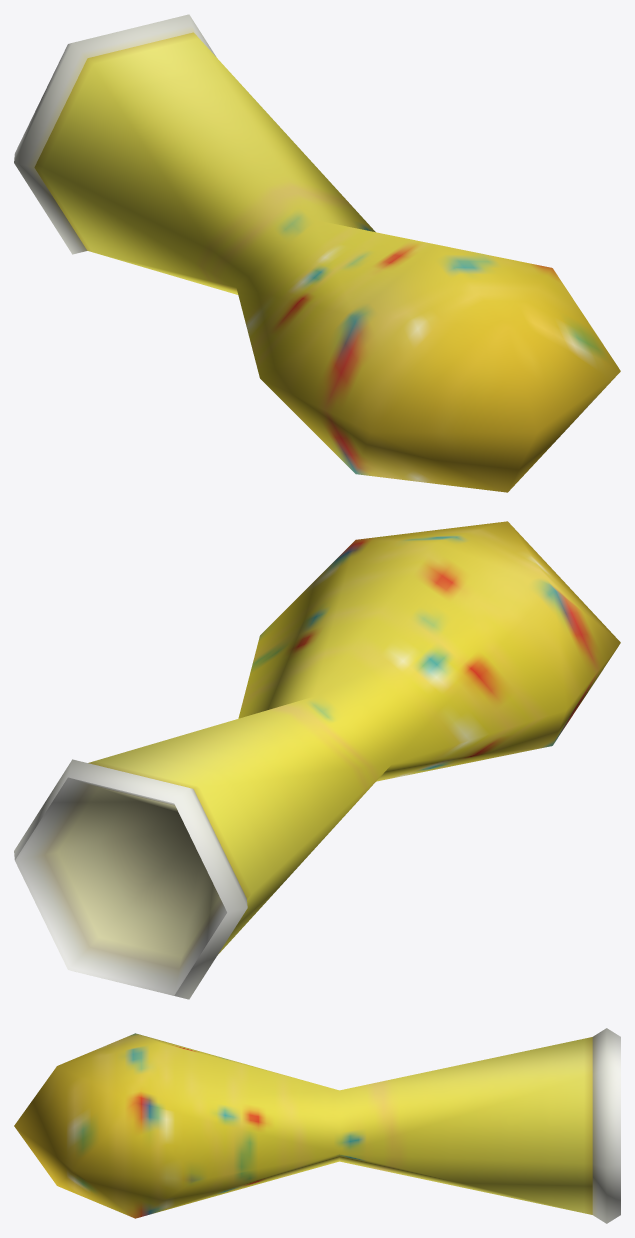
Rendered from jsf_Balloon_04.fbx.
3 renders of one model, top to bottom at view 1: azimuth 30°, elevation 25°; view 2: azimuth 150°, elevation 25°; view 3: azimuth 270°, elevation 25°, orthographic. The views are drawn at different scales.
Visible parts, largest first — view 1: jsf_Balloon_04; view 2: jsf_Balloon_04; view 3: jsf_Balloon_04.
Boxes of the visible parts, box(x1,y1,x2,y2) form: jsf_Balloon_04: box(14, 14, 620, 492); jsf_Balloon_04: box(14, 521, 620, 999); jsf_Balloon_04: box(14, 1028, 620, 1223).
Size of the model in its own units: 1.44 by 1.02 by 3.39.
